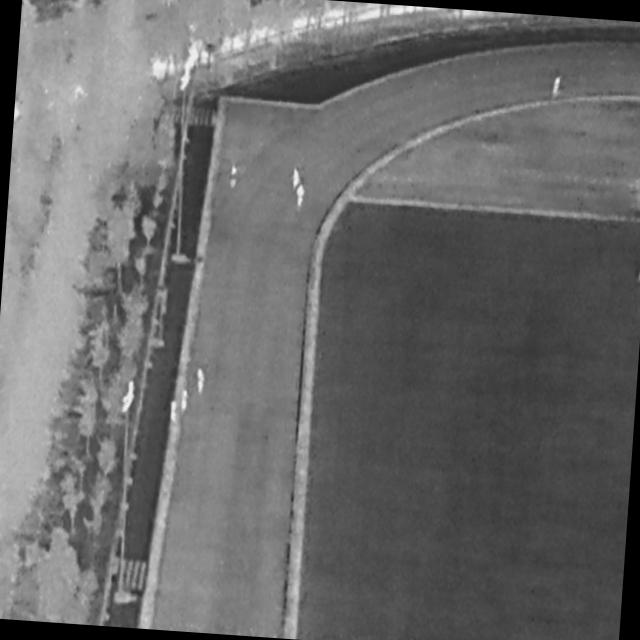person: (197, 367, 206, 396), (292, 168, 302, 193), (297, 183, 307, 208), (229, 164, 238, 190), (170, 400, 180, 423), (180, 388, 189, 413), (552, 75, 561, 99), (639, 259, 640, 283)
